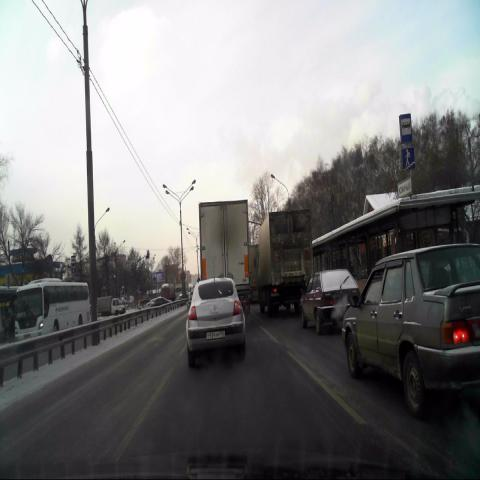6_6: (402, 146, 414, 170)
